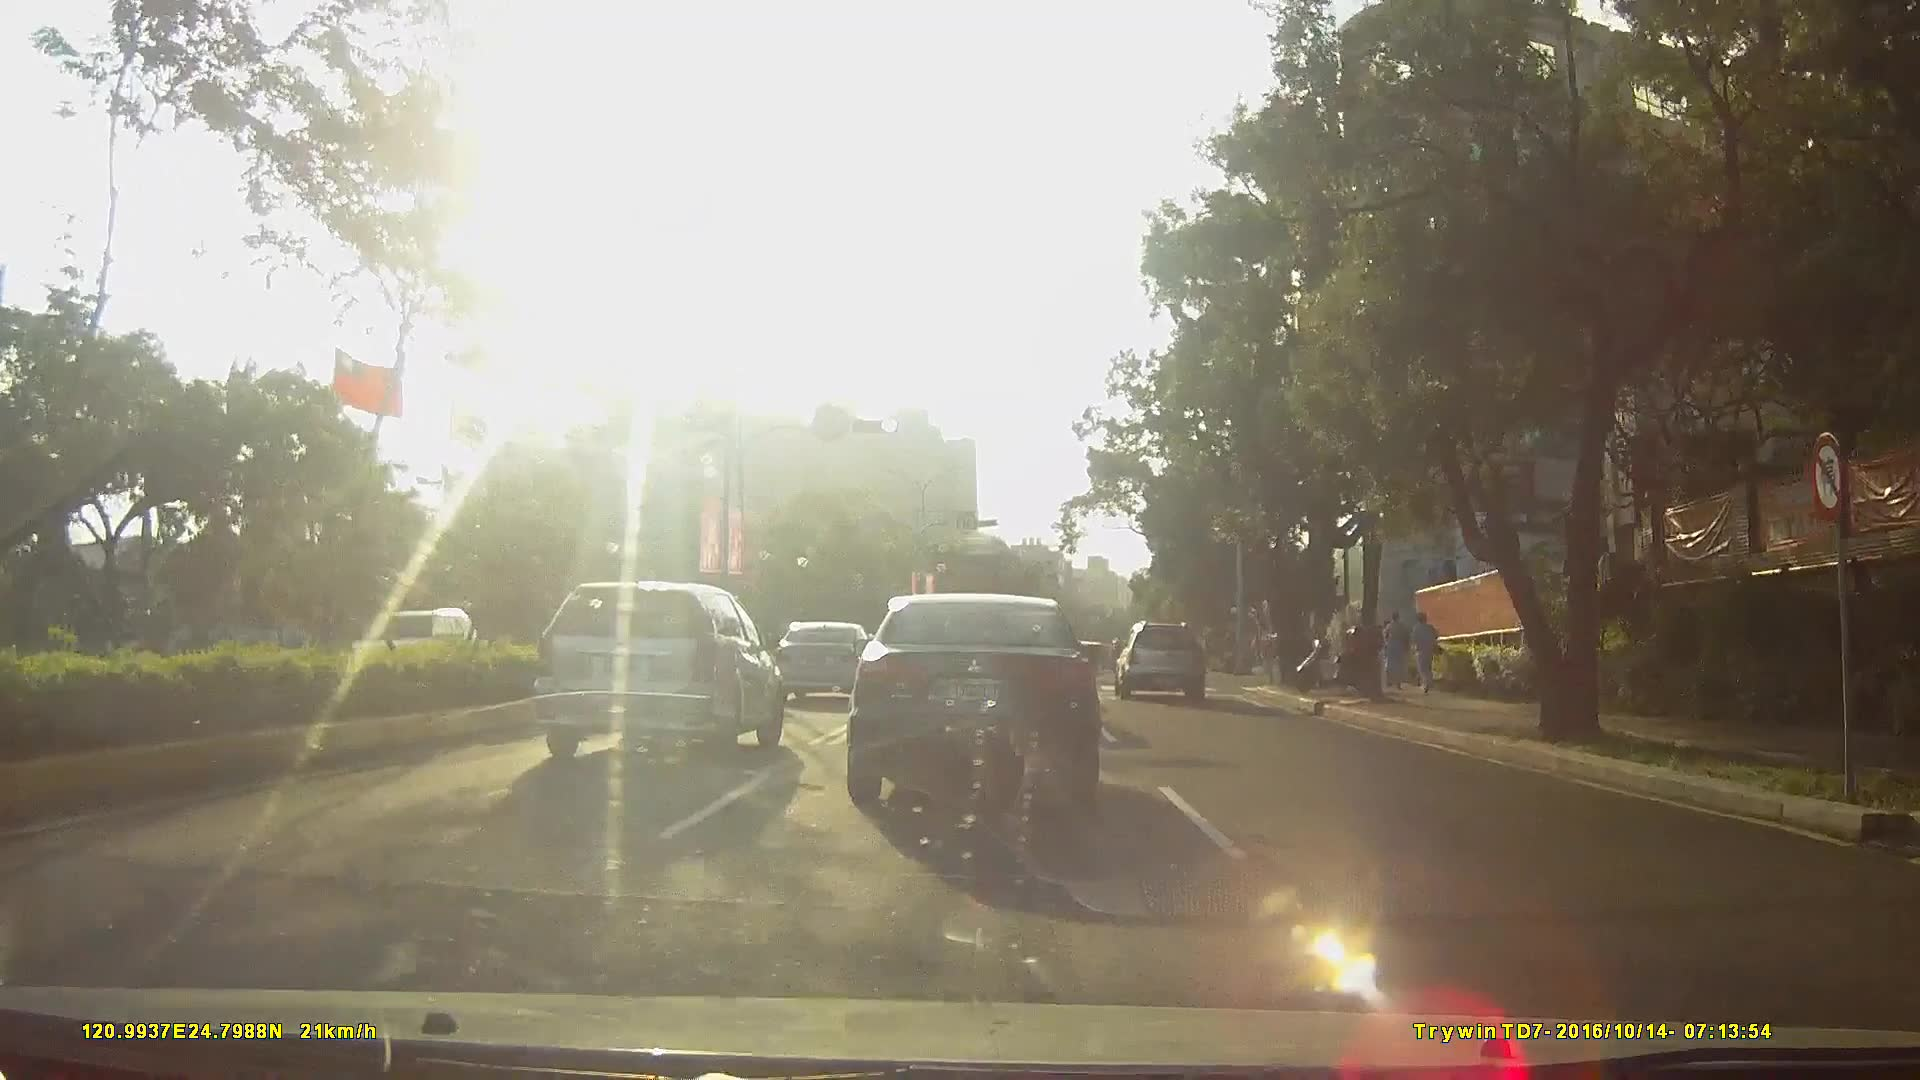pedestrian: (1409, 616, 1444, 704), (1381, 611, 1412, 693)
vehicle: (841, 594, 1101, 819), (526, 580, 784, 764), (355, 604, 491, 699), (774, 623, 877, 714), (1111, 623, 1215, 707)
